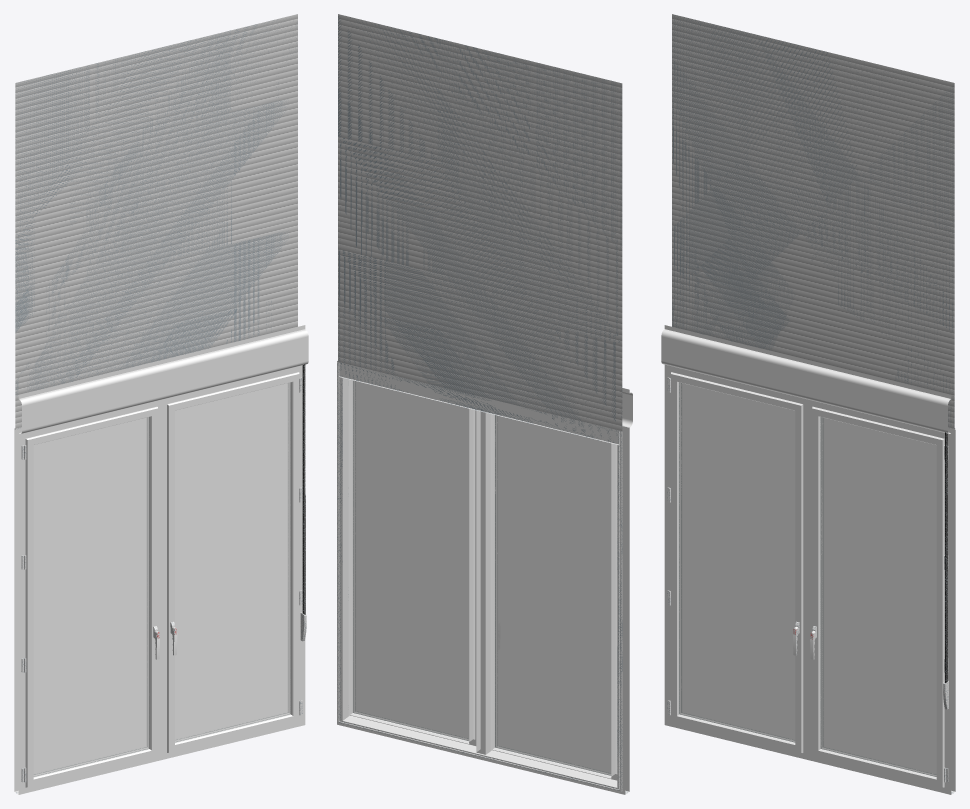
Rendered from Window3_os_150x200x[2 casement_blinds].dae.
3 renders of one model, left to right at view 1: azimuth 30°, elevation 25°; view 2: azimuth 150°, elevation 25°; view 3: azimuth 330°, elevation 25°, orthographic.
Parts seen in each view (by area): view 1: group_4, group_24 (×2), group_20 (×2), group_9, group_11, group_23 (×3), group_19 (×2), group_3; view 2: group_4 (×2), group_24 (×2), group_20 (×2), group_3 (×3), group_19 (×4), group_11 (×3), group_23 (×5); view 3: group_4, group_24 (×2), group_20 (×2), group_11, group_9, group_19 (×3), group_23 (×2), group_3.
Boxes of the visible parts, x1,y1,x2,y2 form: group_4: [15, 14, 297, 428]; group_24 (×2): [33, 417, 149, 776]; group_20 (×2): [175, 382, 290, 742]; group_9: [18, 325, 308, 433]; group_11: [18, 365, 305, 794]; group_23 (×3): [25, 406, 157, 787]; group_19 (×2): [167, 372, 299, 752]; group_3: [14, 428, 21, 791]; group_4 (×2): [338, 14, 622, 444]; group_24 (×2): [495, 415, 611, 775]; group_20 (×2): [353, 380, 468, 740]; group_3 (×3): [337, 361, 625, 794]; group_19 (×4): [344, 379, 480, 751]; group_11 (×3): [343, 378, 629, 791]; group_23 (×5): [486, 413, 617, 786]; group_4: [672, 14, 954, 428]; group_24 (×2): [679, 382, 795, 742]; group_20 (×2): [820, 417, 936, 776]; group_11: [664, 364, 951, 794]; group_9: [661, 325, 951, 433]; group_19 (×3): [812, 406, 944, 787]; group_23 (×2): [671, 372, 803, 752]; group_3: [948, 428, 955, 791].
Size of the model in its own units: 59.06 by 4.16 by 139.
12 materials, 1 textured.
